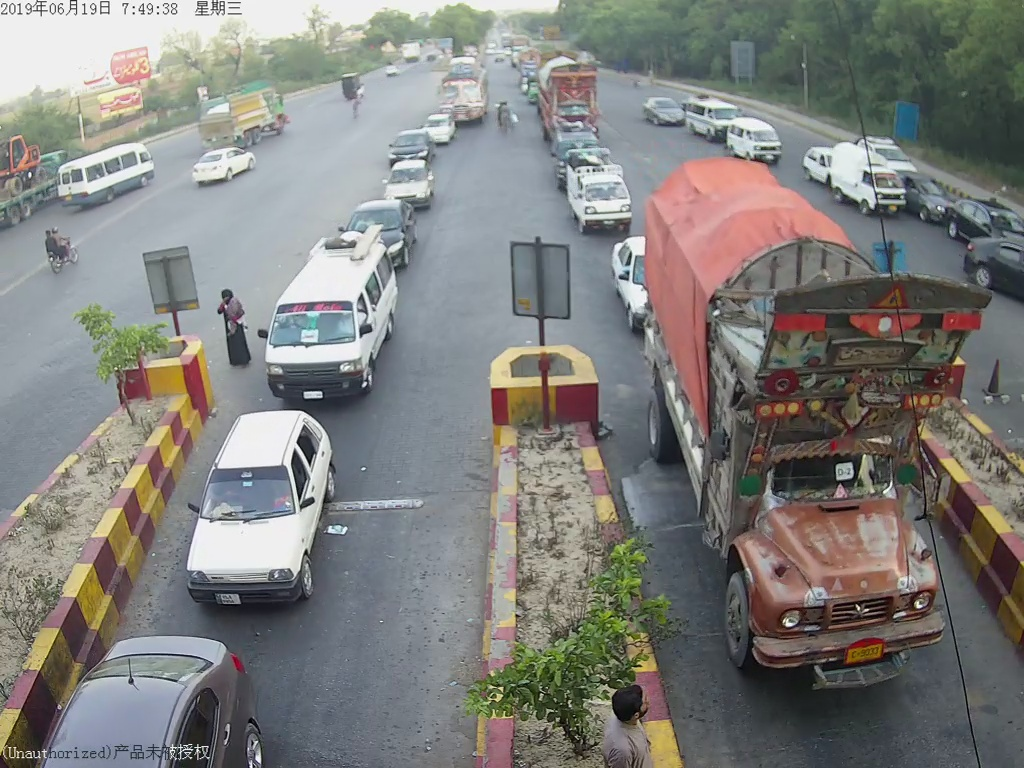Cat-1: (186, 402, 346, 609), (560, 153, 633, 233), (612, 237, 662, 338)
Cat-2: (264, 220, 396, 398)
Cat-4: (654, 155, 954, 686)
